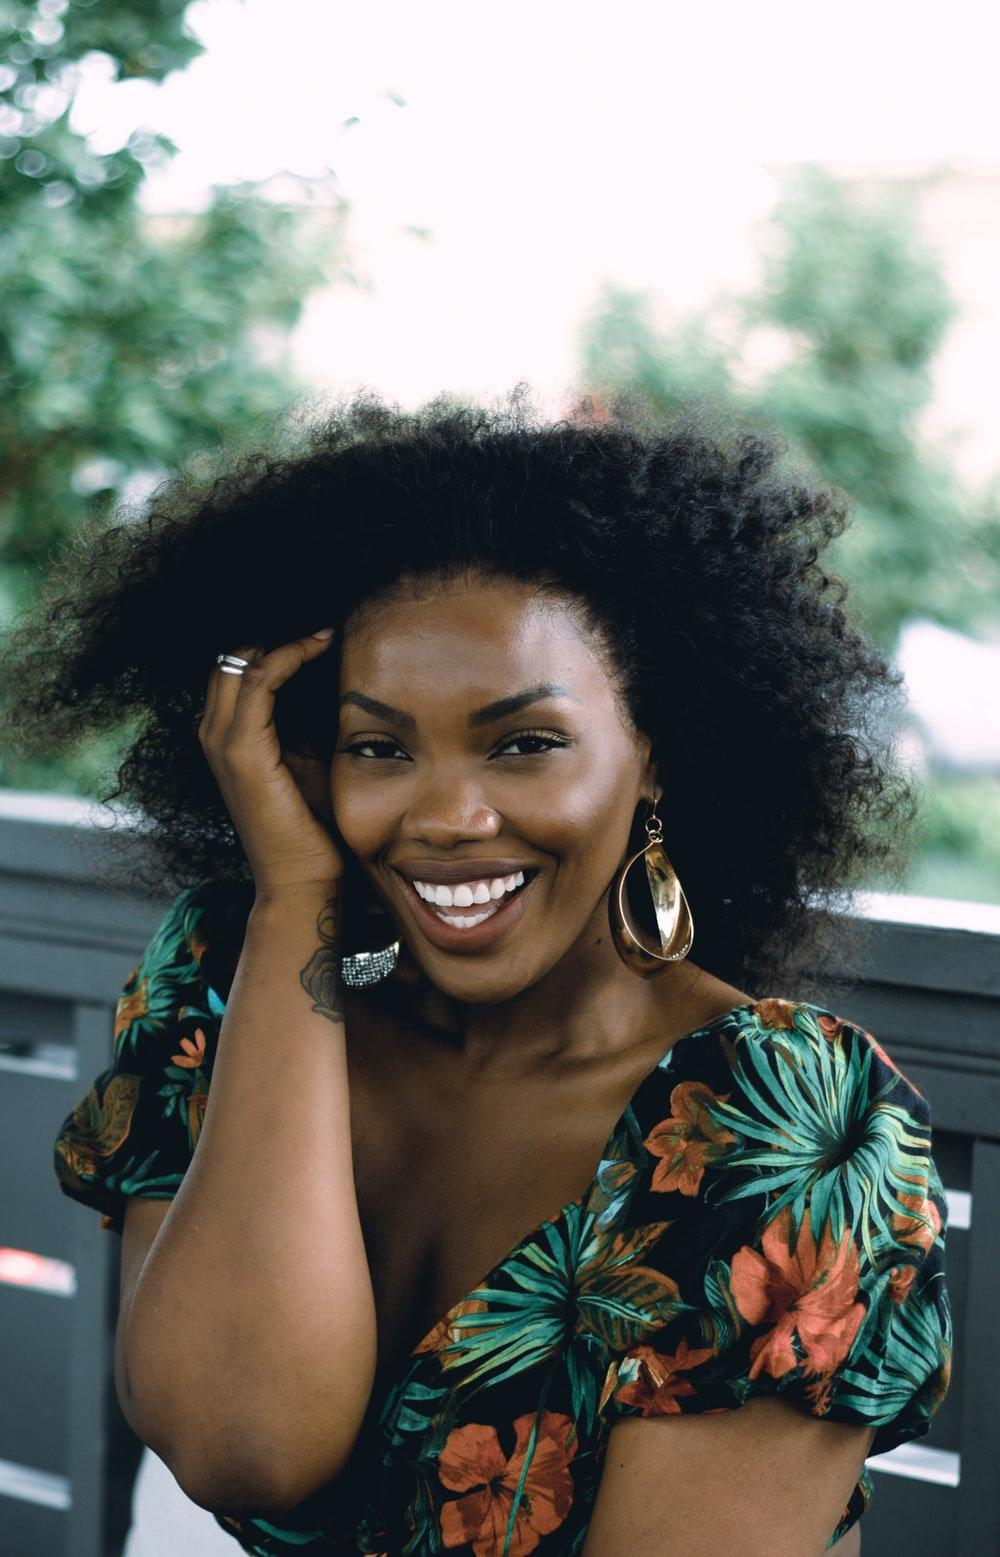Sober: (348, 621, 622, 973)
